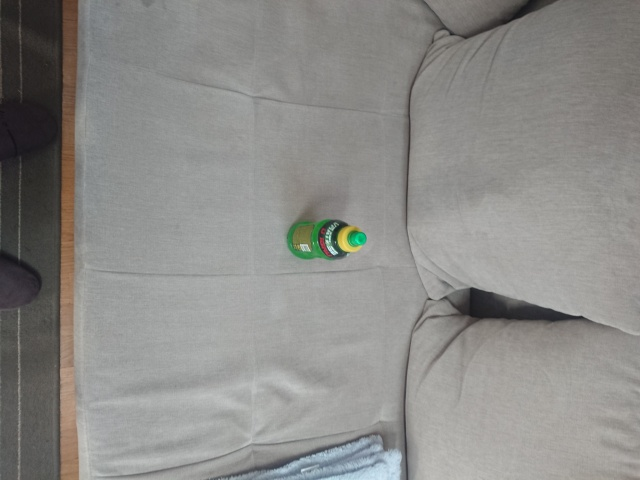Vindi Iso Sport Lemon-Grapefruit 500mL: (284, 216, 369, 263)
